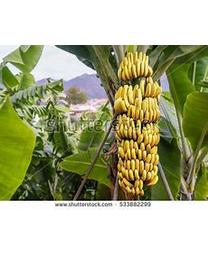banana: (113, 51, 163, 197)
